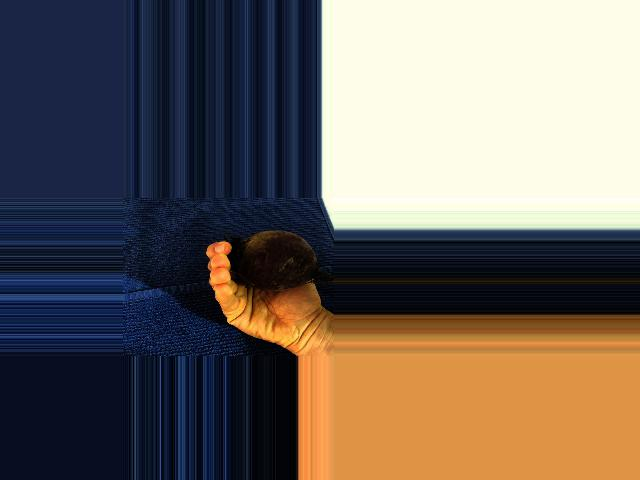beet: (222, 231, 333, 292)
